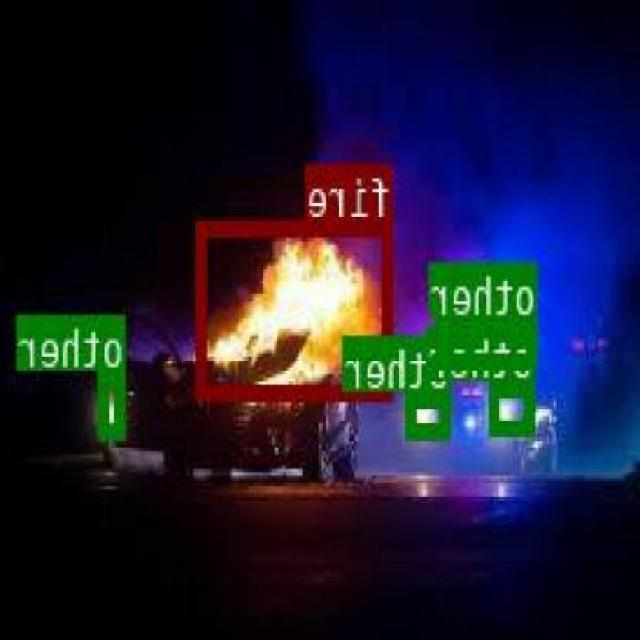Fire: (196, 234, 392, 404)
Smoke: (11, 0, 336, 347)
